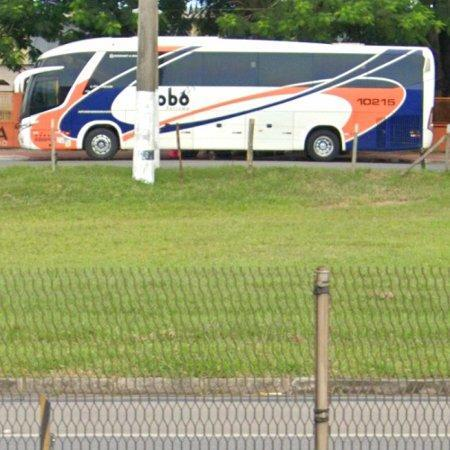buses: (159, 36, 436, 159), (15, 37, 137, 159)
